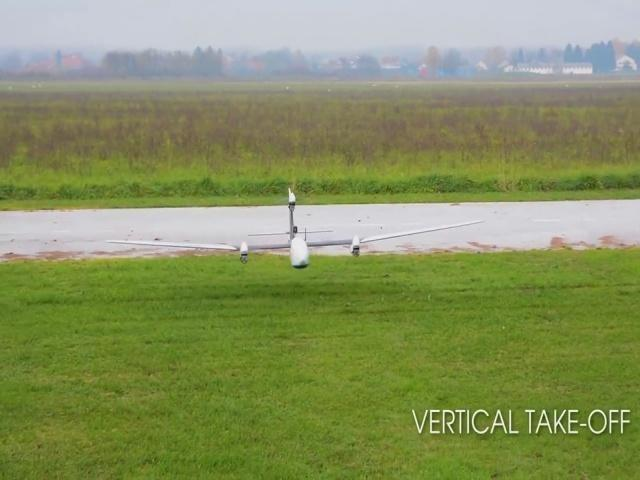Airplane: (80, 171, 508, 300)
